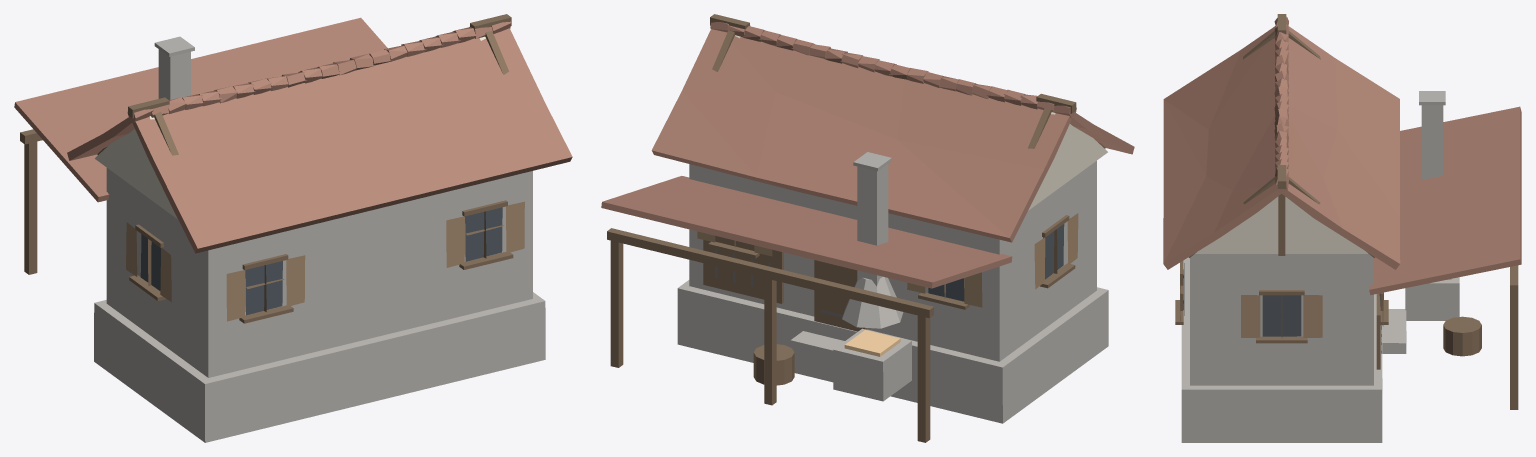
File: smithy_lod1.glb
3 renders of one model, left to right at view 1: azimuth 30°, elevation 25°; view 2: azimuth 150°, elevation 25°; view 3: azimuth 270°, elevation 25°, orthographic. The views are drawn at different scales.
Visible parts, largest first — view 1: smithy.001; view 2: smithy.001; view 3: smithy.001.
Part boxes in pixels (x1=…): smithy.001: x1=14, y1=14, x2=572, y2=442; smithy.001: x1=601, y1=14, x2=1134, y2=442; smithy.001: x1=1163, y1=14, x2=1521, y2=442.
Bounding box in the file's own units: 9.2 × 6.93 × 8.33.
